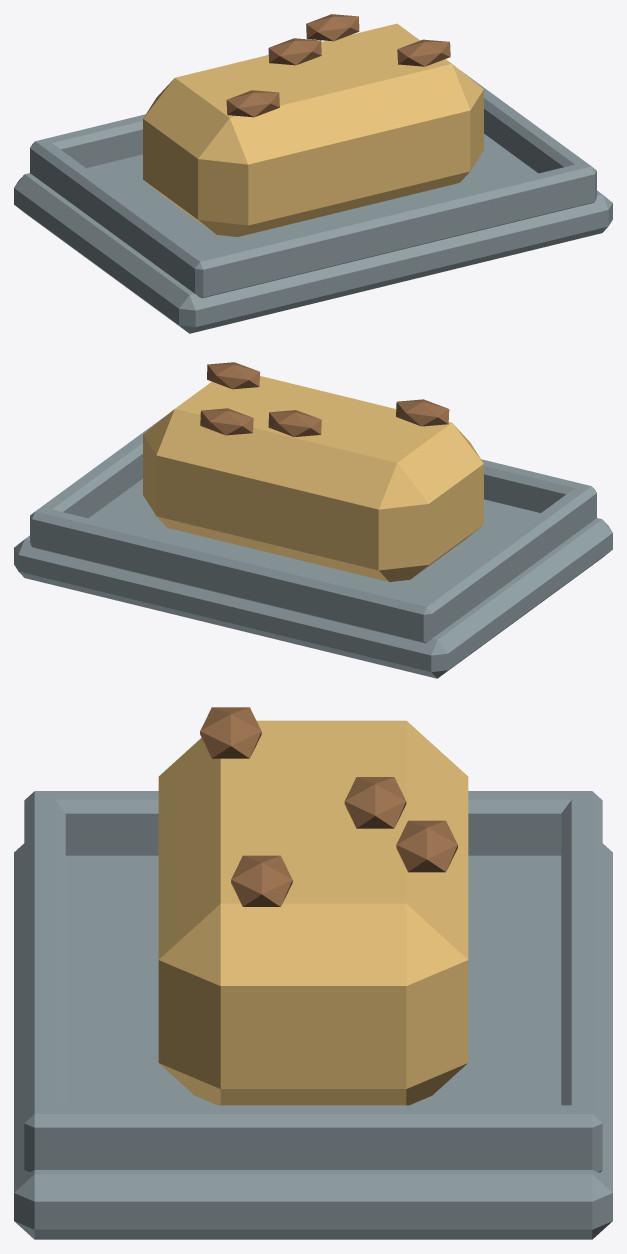
The model's file is walnut_bread.glb.
3 views of the same model, one above another, from view 1: azimuth 30°, elevation 25°; view 2: azimuth 150°, elevation 25°; view 3: azimuth 270°, elevation 25° (orthographic). The views are drawn at different scales.
Parts seen in each view (by area): view 1: FTF_Dish_WalnutBread_StaticMesh; view 2: FTF_Dish_WalnutBread_StaticMesh; view 3: FTF_Dish_WalnutBread_StaticMesh.
Part boxes in pixels (<box>): FTF_Dish_WalnutBread_StaticMesh: <box>14,14,612,333</box>; FTF_Dish_WalnutBread_StaticMesh: <box>14,362,612,678</box>; FTF_Dish_WalnutBread_StaticMesh: <box>14,707,612,1239</box>.
Bounding box in the file's own units: 0.82 × 0.305 × 0.58.
